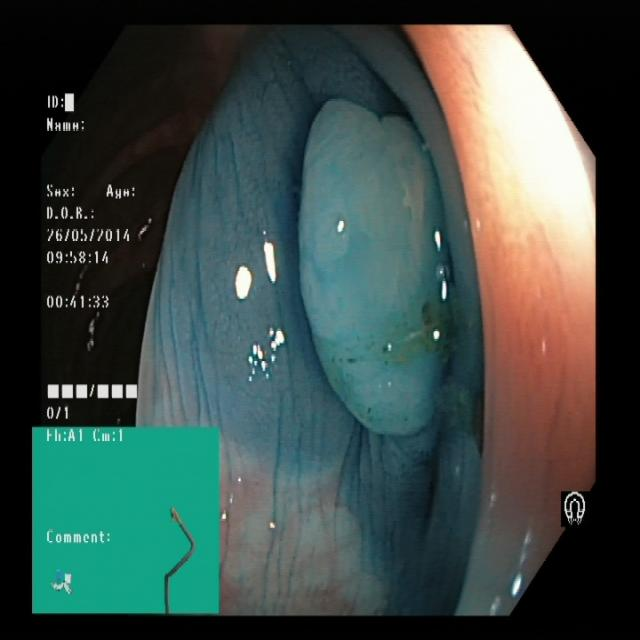dyed-lifted-polyps: (297, 79, 465, 450)
